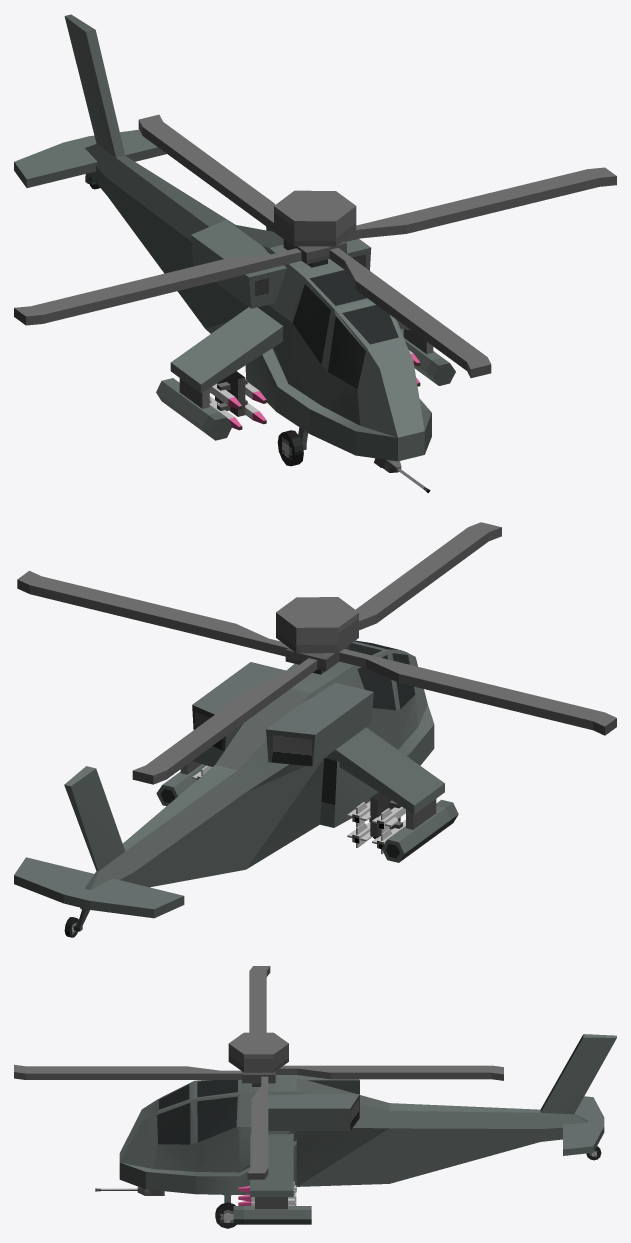
File: attack_heli_c.fbx
3 views of the same model, one above another, from view 1: azimuth 30°, elevation 25°; view 2: azimuth 150°, elevation 25°; view 3: azimuth 270°, elevation 25° (orthographic). The views are drawn at different scales.
Parts seen in each view (by area): view 1: attack_heli_c; view 2: attack_heli_c; view 3: attack_heli_c.
Part boxes in pixels (x1,y1,x2,y2): attack_heli_c: (14,14,616,493); attack_heli_c: (14,522,616,937); attack_heli_c: (14,966,616,1228).
Size of the model in its own units: 38.01 by 14.99 by 46.76.
